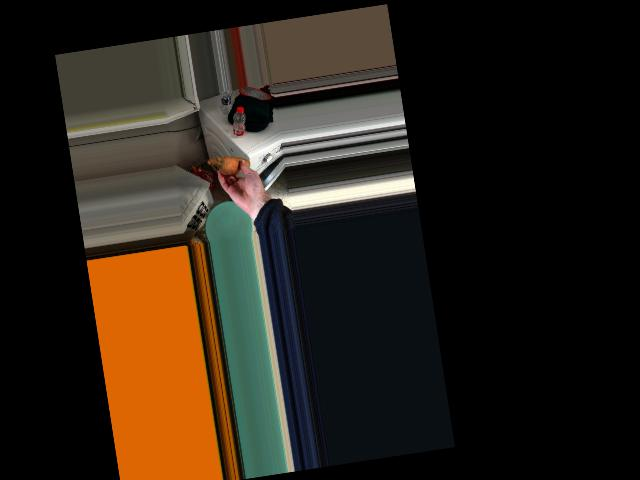sweet_potato: (215, 153, 248, 175)
